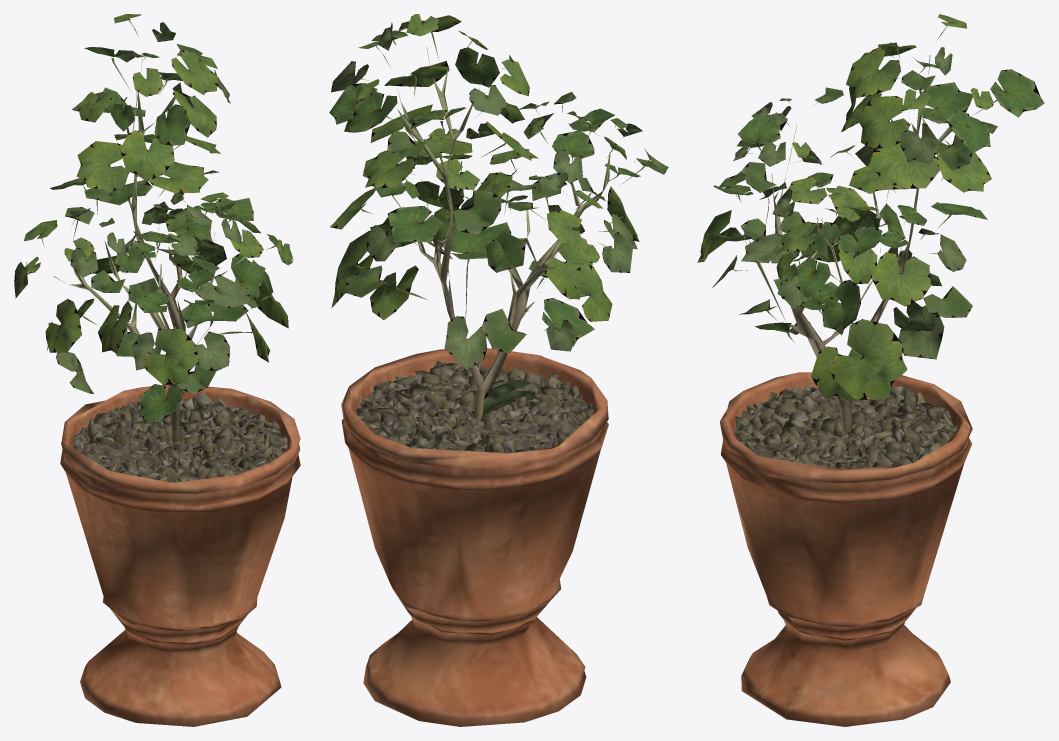
File: potted_plant_01_1k.glb
3 renders of one model, left to right at view 1: azimuth 30°, elevation 25°; view 2: azimuth 150°, elevation 25°; view 3: azimuth 270°, elevation 25°, orthographic. The views are drawn at different scales.
Visible parts, largest first — view 1: potted_plant_01_stem, potted_plant_01_leaves; view 2: potted_plant_01_stem, potted_plant_01_leaves; view 3: potted_plant_01_stem, potted_plant_01_leaves.
Boxes of the visible parts, x1,y1,x2,y2 form: potted_plant_01_stem: (53,53,300,726); potted_plant_01_leaves: (14,14,293,423); potted_plant_01_stem: (341,47,610,726); potted_plant_01_leaves: (329,14,668,414); potted_plant_01_stem: (720,55,972,726); potted_plant_01_leaves: (697,14,1044,400).
Size of the model in its own units: 0.5846 by 1.33 by 0.6336.
Materials: 2 (2 with a texture image).
